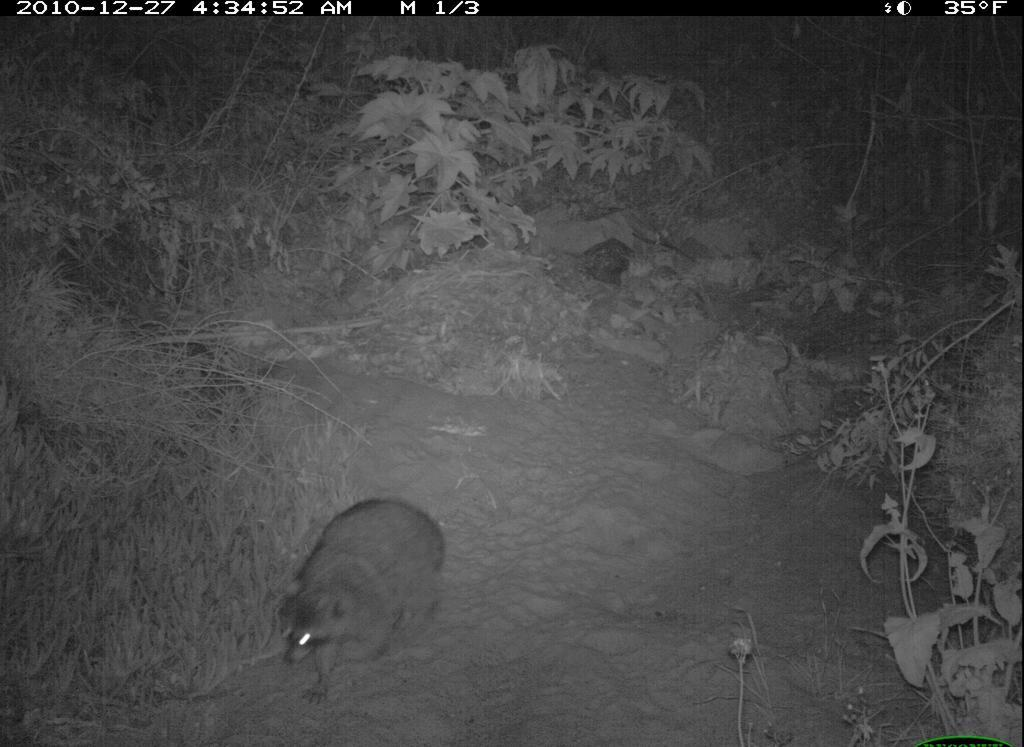raccoon: (271, 483, 461, 705)
